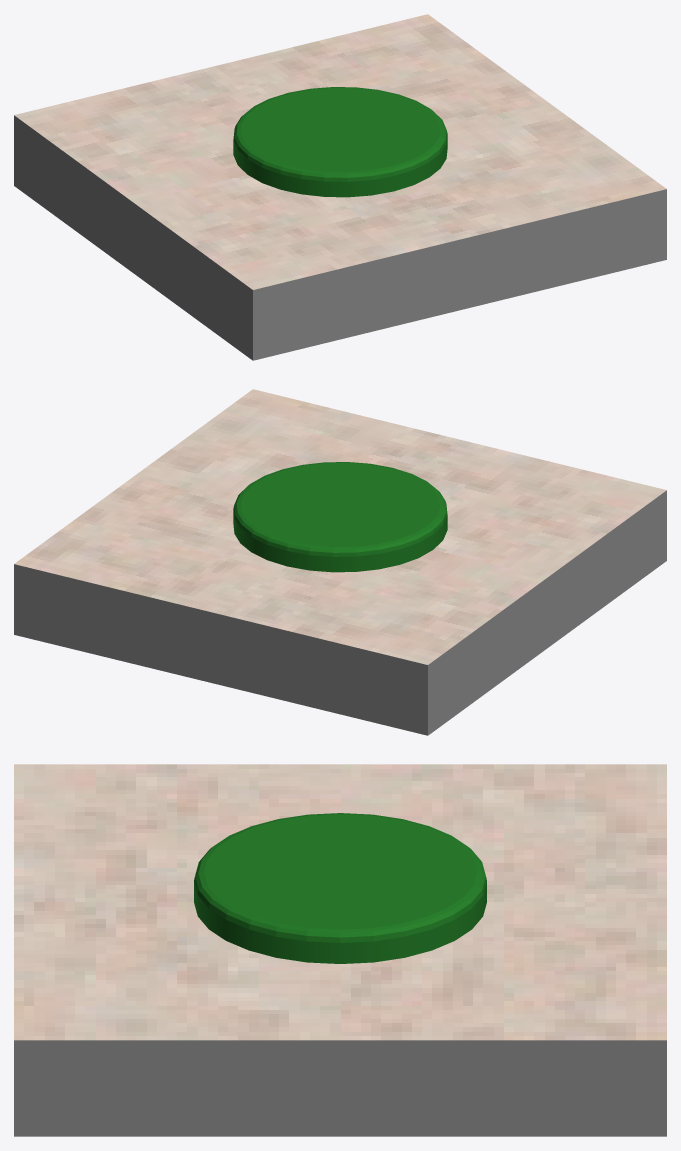
File: floor3.obj
3 renders of one model, top to bottom at view 1: azimuth 30°, elevation 25°; view 2: azimuth 150°, elevation 25°; view 3: azimuth 270°, elevation 25°, orthographic. The views are drawn at different scales.
Visible parts, largest first — view 1: object 2, Box001, Circle001; view 2: object 2, Box001, Circle001; view 3: object 2, Box001, Circle001.
Part boxes in pixels (left/top/right/bottom): object 2: left=14, top=14, right=666, bottom=289; Box001: left=14, top=115, right=666, bottom=360; Circle001: left=233, top=87, right=447, bottom=197; object 2: left=14, top=389, right=666, bottom=664; Box001: left=14, top=490, right=666, bottom=735; Circle001: left=233, top=462, right=447, bottom=572; object 2: left=14, top=764, right=666, bottom=1040; Box001: left=14, top=1040, right=666, bottom=1136; Circle001: left=194, top=813, right=486, bottom=963.
Size of the model in its own units: 0.98 by 0.2099 by 0.98.
Materials: 3 (1 with a texture image).
